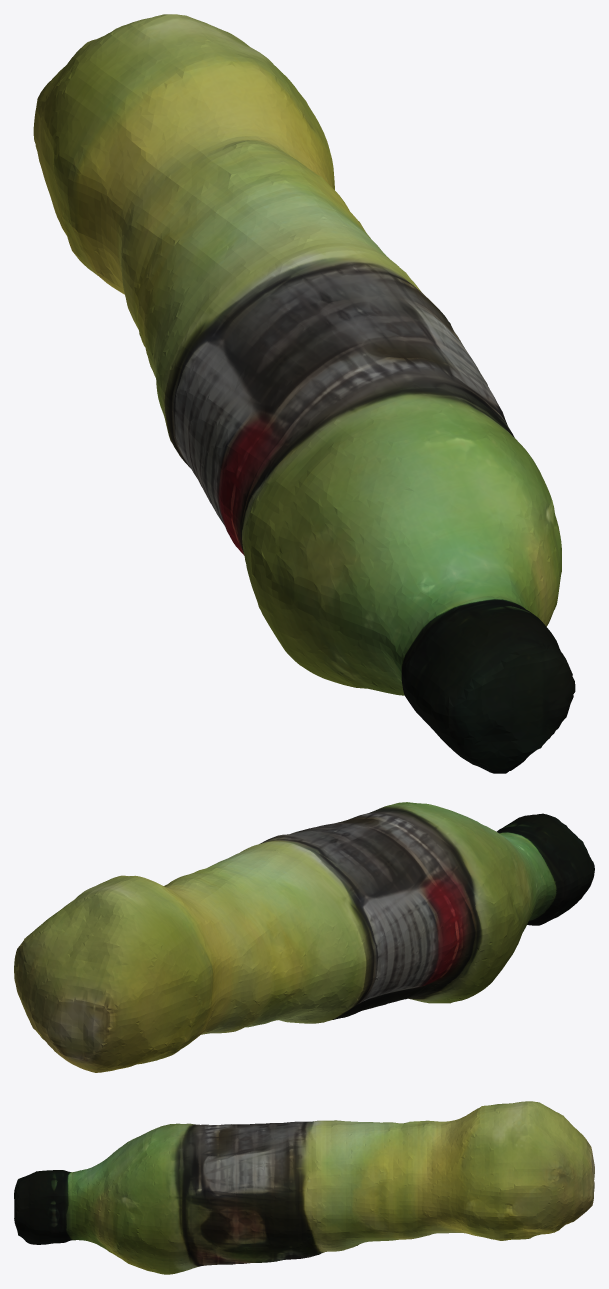
The model's file is 0_rgba.obj.
3 views of the same model, one above another, from view 1: azimuth 30°, elevation 25°; view 2: azimuth 150°, elevation 25°; view 3: azimuth 270°, elevation 25° (orthographic). The views are drawn at different scales.
Bounding box in the file's own units: 0.7484 × 0.7205 × 1.99.
Materials: 1 (1 with a texture image).
